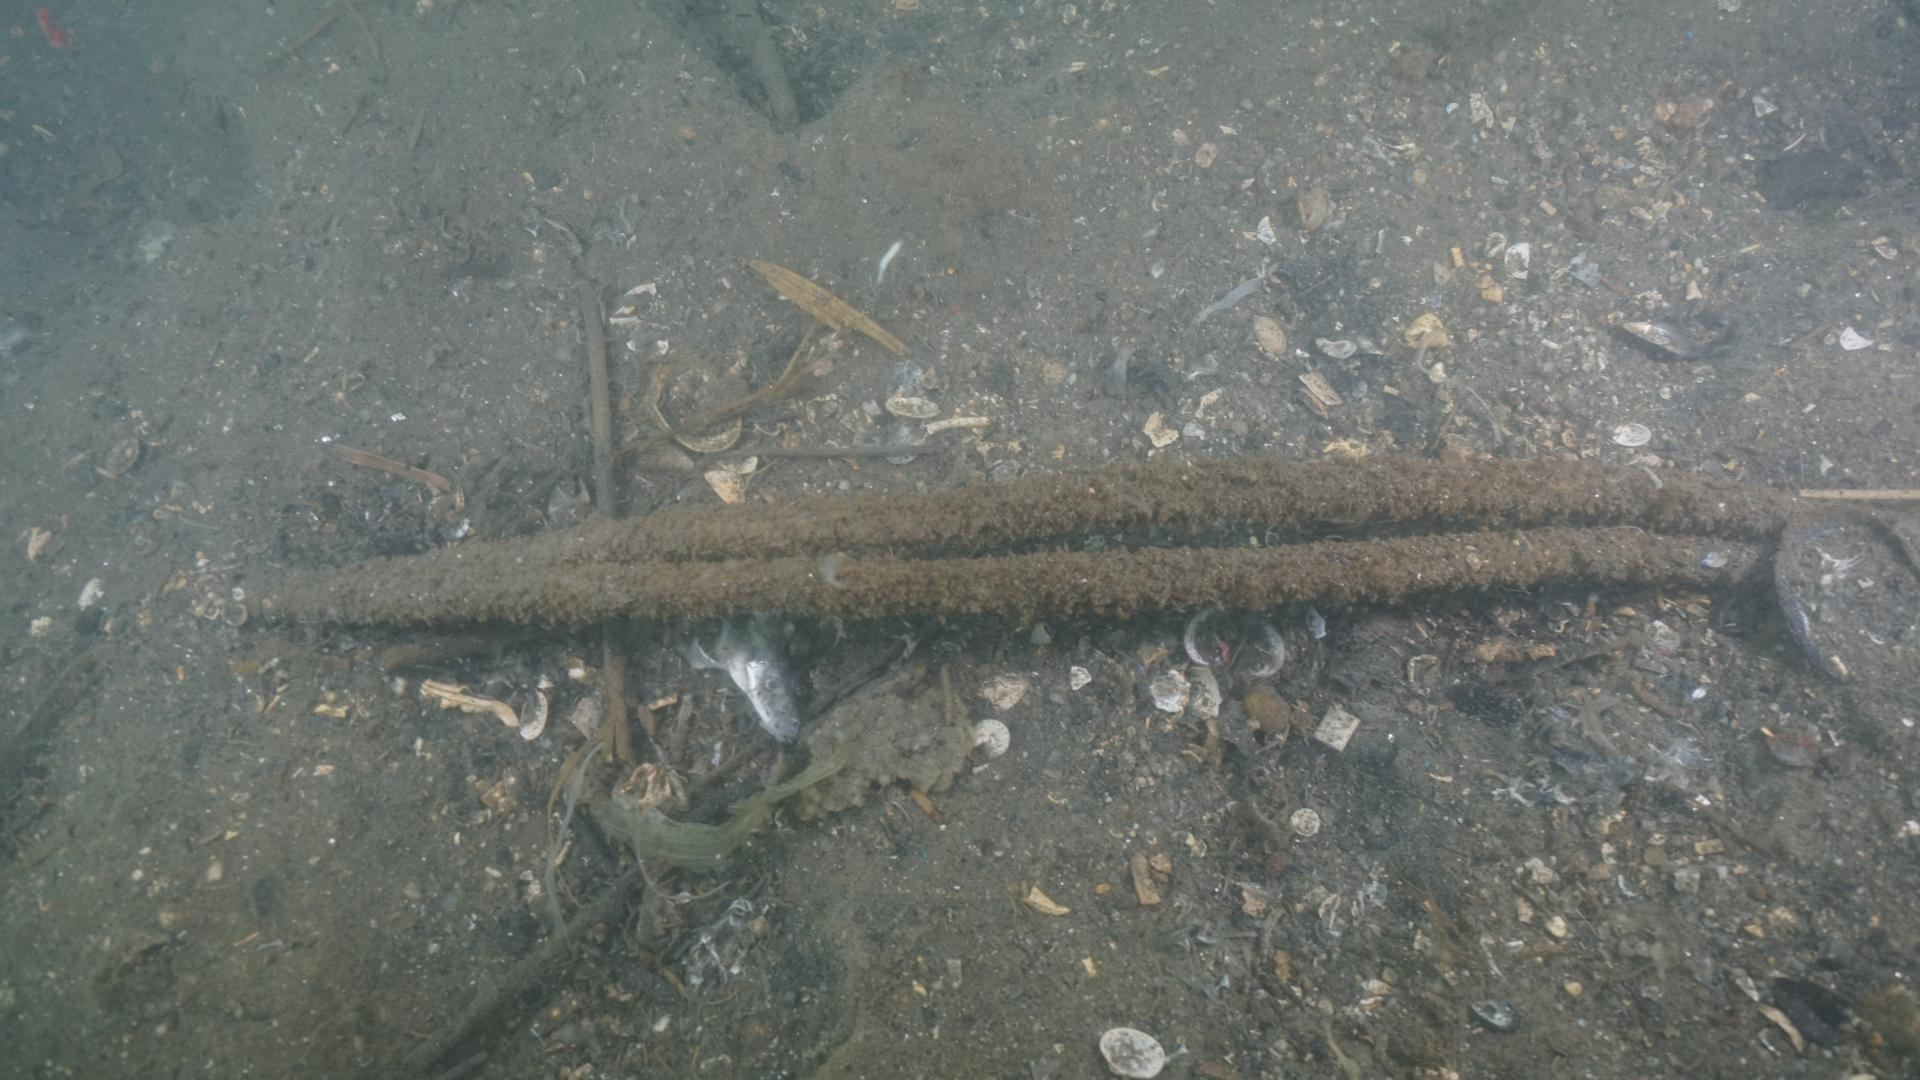other objects: (200, 468, 1817, 665)
